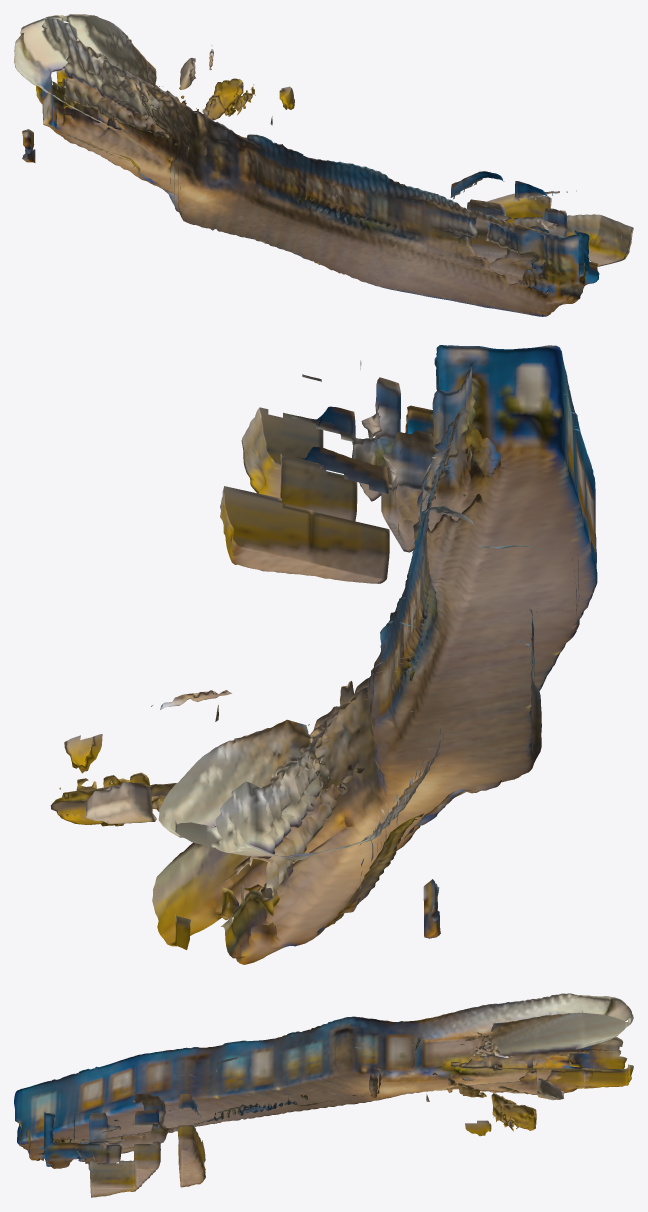
File: van-gogh-gallery-hd-collider.glb
The picture shows the model from 3 angles, top to bottom: view 1: azimuth 30°, elevation 25°; view 2: azimuth 150°, elevation 25°; view 3: azimuth 270°, elevation 25°; orthographic projection. The views are drawn at different scales.
Visible parts, largest first — view 1: world; view 2: world; view 3: world.
Boxes of the visible parts, x1,y1,x2,y2 form: world: (14, 14, 633, 316); world: (50, 345, 597, 964); world: (14, 993, 633, 1197).
Bounding box in the file's own units: 19.2 × 4.88 × 33.08.
